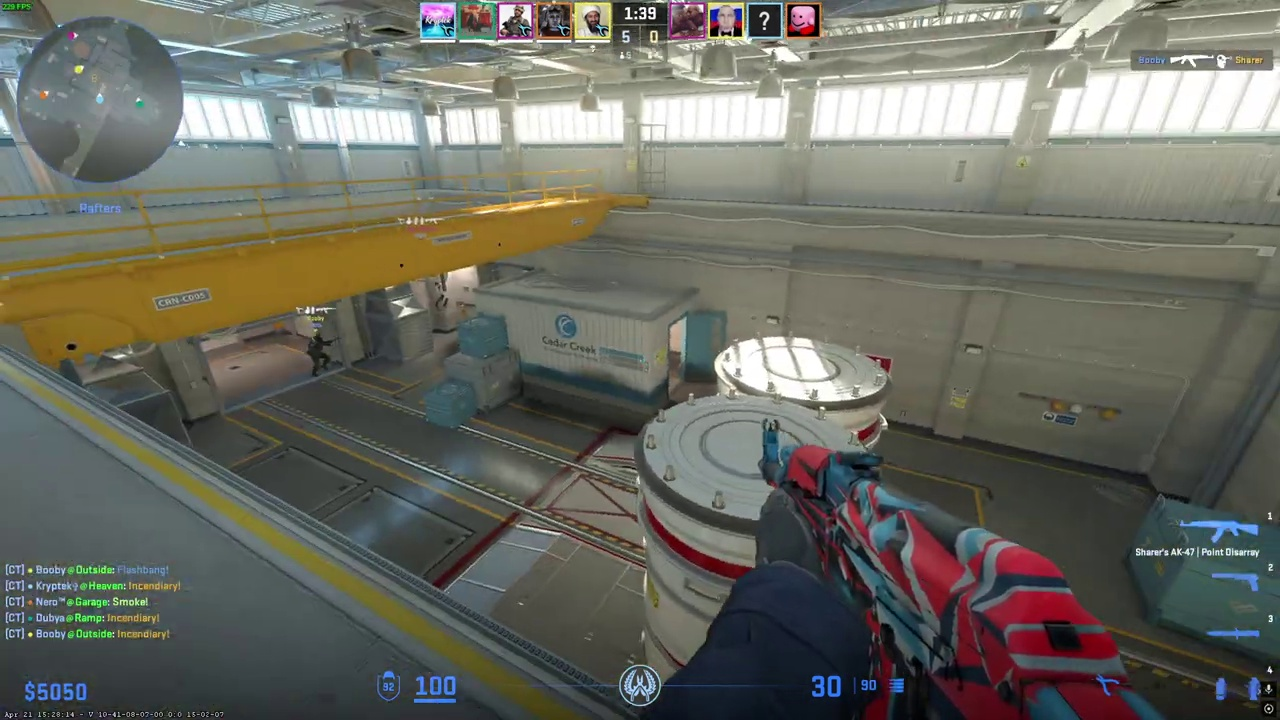CT: (308, 333, 330, 376)
